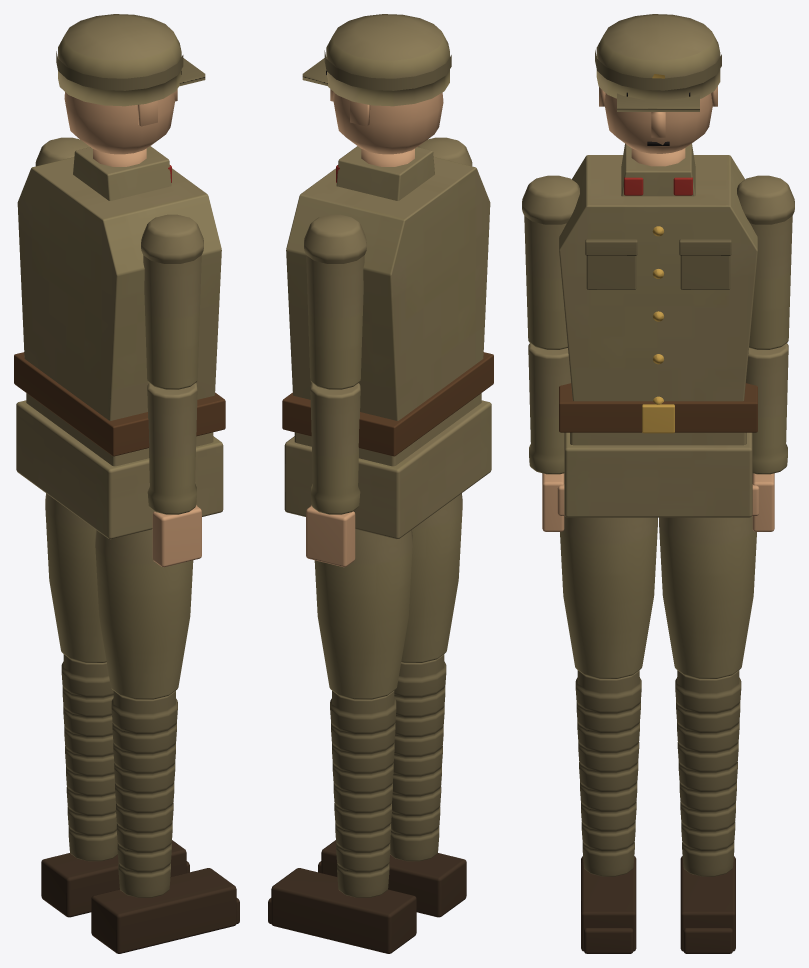
The model's file is crew_crew.glb.
3 renders of one model, left to right at view 1: azimuth 30°, elevation 25°; view 2: azimuth 150°, elevation 25°; view 3: azimuth 270°, elevation 25°, orthographic.
Parts seen in each view (by area): view 1: TorsoMesh, HeadMeshMesh, PelvisMesh, ThighRMesh, ShinRMesh, ShinLMesh, UpperArmRMesh, FootRMesh, ThighLMesh, ForearmRMesh, FootLMesh, HandMeshRMesh (+1 smaller); view 2: TorsoMesh, HeadMeshMesh, PelvisMesh, ThighLMesh, ShinLMesh, ShinRMesh, UpperArmLMesh, FootLMesh, ThighRMesh, ForearmLMesh, FootRMesh, HandMeshLMesh (+1 smaller); view 3: TorsoMesh, PelvisMesh, HeadMeshMesh, ThighLMesh, ThighRMesh, ShinLMesh, ShinRMesh, UpperArmLMesh, UpperArmRMesh, FootLMesh, FootRMesh, ForearmLMesh (+3 smaller).
Boxes of the visible parts, <box> form: TorsoMesh: <box>14,146,225,456</box>; HeadMeshMesh: <box>56,14,205,166</box>; PelvisMesh: <box>16,393,223,539</box>; ThighRMesh: <box>95,529,193,699</box>; ShinRMesh: <box>111,691,177,897</box>; ShinLMesh: <box>61,654,117,861</box>; UpperArmRMesh: <box>141,214,203,389</box>; FootRMesh: <box>91,868,239,953</box>; ThighLMesh: <box>45,493,106,662</box>; ForearmRMesh: <box>147,383,197,514</box>; FootLMesh: <box>41,840,189,917</box>; HandMeshRMesh: <box>152,505,201,567</box>; TorsoMesh: <box>282,146,493,456</box>; HeadMeshMesh: <box>302,14,451,166</box>; PelvisMesh: <box>284,393,491,539</box>; ThighLMesh: <box>314,529,412,699</box>; ShinLMesh: <box>330,691,396,897</box>; ShinRMesh: <box>390,654,446,861</box>; UpperArmLMesh: <box>304,214,366,389</box>; FootLMesh: <box>268,868,416,953</box>; ThighRMesh: <box>401,493,462,662</box>; ForearmLMesh: <box>310,383,360,514</box>; FootRMesh: <box>318,840,466,917</box>; HandMeshLMesh: <box>306,505,355,567</box>; TorsoMesh: <box>559,143,757,433</box>; PelvisMesh: <box>564,432,752,517</box>; HeadMeshMesh: <box>595,14,721,166</box>; ThighLMesh: <box>659,516,756,678</box>; ThighRMesh: <box>560,516,657,678</box>; ShinLMesh: <box>675,670,741,876</box>; ShinRMesh: <box>575,670,641,876</box>; UpperArmLMesh: <box>737,175,794,349</box>; UpperArmRMesh: <box>522,175,579,349</box>; FootLMesh: <box>680,856,735,953</box>; FootRMesh: <box>581,856,636,953</box>; ForearmLMesh: <box>746,343,788,474</box>.
Size of the model in its own units: 0.295 by 1.77 by 0.4935.
8 materials, 1 textured.
